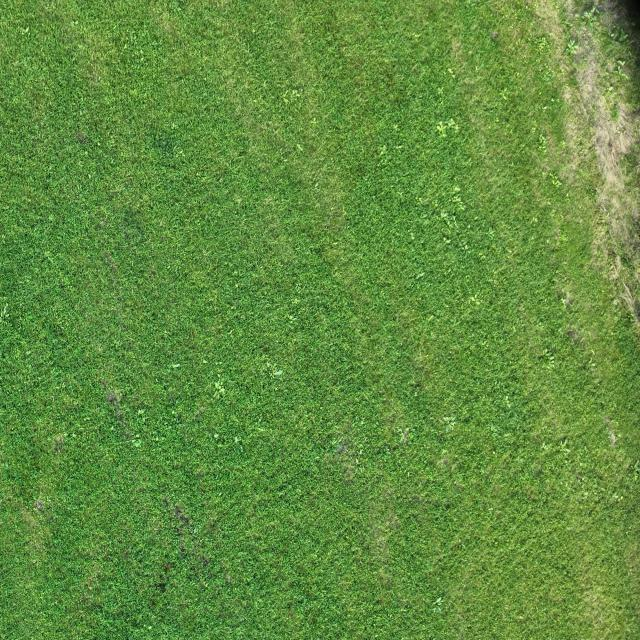rumex: (233, 408, 348, 538), (95, 189, 164, 274), (190, 371, 256, 454), (536, 432, 581, 488), (133, 121, 185, 168), (269, 74, 311, 122), (449, 4, 472, 74), (607, 21, 633, 54), (260, 358, 286, 388), (101, 250, 121, 278), (538, 345, 556, 367), (440, 414, 457, 434), (393, 424, 409, 444), (134, 411, 148, 433), (52, 434, 66, 454), (432, 596, 446, 614), (565, 38, 579, 56), (537, 133, 548, 154), (616, 63, 630, 77), (436, 121, 448, 137), (608, 103, 618, 120), (0, 305, 10, 321), (446, 215, 457, 229), (288, 604, 296, 622), (195, 407, 205, 421), (626, 310, 637, 322), (378, 145, 388, 158), (450, 121, 460, 134), (447, 67, 457, 79), (281, 93, 290, 106), (537, 42, 547, 53), (441, 456, 450, 468), (452, 194, 462, 204), (551, 178, 561, 188), (560, 446, 570, 456), (332, 440, 342, 450), (415, 271, 427, 279), (170, 408, 179, 418), (471, 294, 480, 304), (96, 344, 105, 354), (559, 437, 568, 447), (114, 388, 123, 398), (175, 411, 182, 423), (426, 315, 435, 324), (448, 118, 457, 127), (133, 439, 142, 448), (615, 493, 624, 502), (130, 89, 138, 99), (488, 228, 496, 238), (590, 6, 598, 16), (472, 300, 481, 308), (216, 389, 224, 398), (412, 32, 421, 40), (234, 197, 242, 206), (583, 10, 592, 18), (291, 89, 298, 99), (296, 143, 303, 153), (152, 432, 159, 442), (560, 297, 567, 307), (635, 461, 640, 475), (443, 237, 451, 245), (440, 212, 448, 220), (539, 136, 547, 144), (519, 142, 527, 150), (100, 220, 108, 228), (501, 92, 508, 101), (608, 266, 615, 275), (516, 614, 525, 621), (315, 181, 321, 191), (560, 235, 568, 242), (453, 186, 461, 193), (48, 213, 54, 222), (354, 457, 360, 466), (589, 22, 594, 32), (392, 124, 399, 131), (288, 314, 295, 321), (559, 68, 566, 75), (137, 407, 144, 414), (603, 70, 610, 77), (462, 244, 468, 252), (559, 294, 565, 302), (542, 348, 548, 356), (24, 27, 30, 35), (26, 348, 32, 356), (532, 217, 538, 225), (560, 140, 566, 148), (219, 386, 225, 394), (558, 213, 564, 221), (213, 432, 219, 440), (541, 442, 547, 450), (202, 581, 208, 589), (332, 241, 339, 247), (531, 125, 537, 132), (616, 127, 622, 134), (607, 86, 614, 92), (541, 105, 548, 111), (438, 88, 443, 96), (123, 43, 128, 51), (505, 396, 510, 404), (172, 363, 180, 368), (493, 117, 499, 123), (610, 32, 616, 38), (565, 48, 571, 54), (616, 433, 622, 439), (565, 194, 570, 201), (110, 426, 115, 432), (140, 49, 144, 56), (550, 98, 555, 103)
